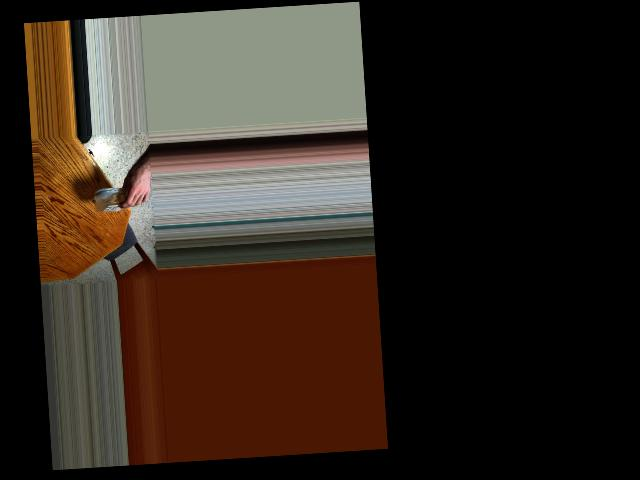cheese: (95, 178, 143, 219)
